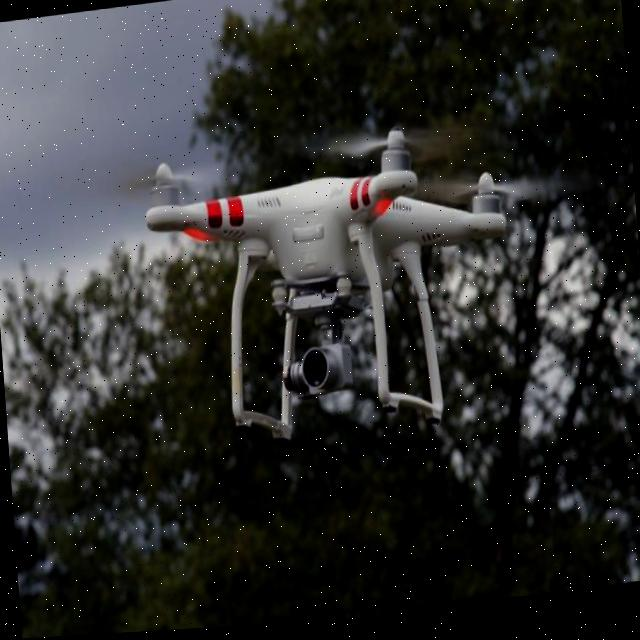drone: (139, 119, 522, 468)
